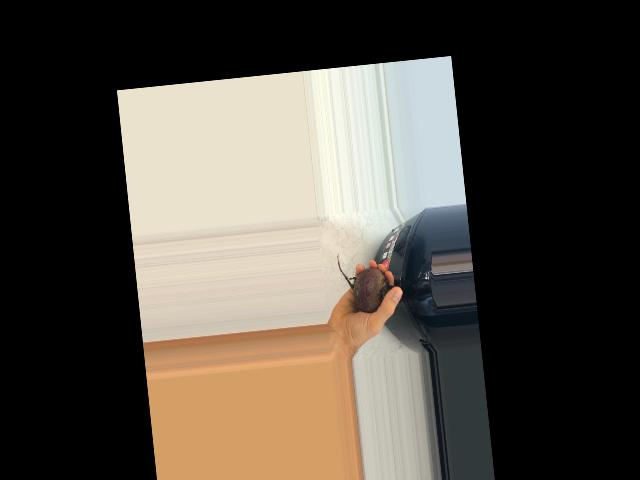beet: (336, 247, 396, 315)
